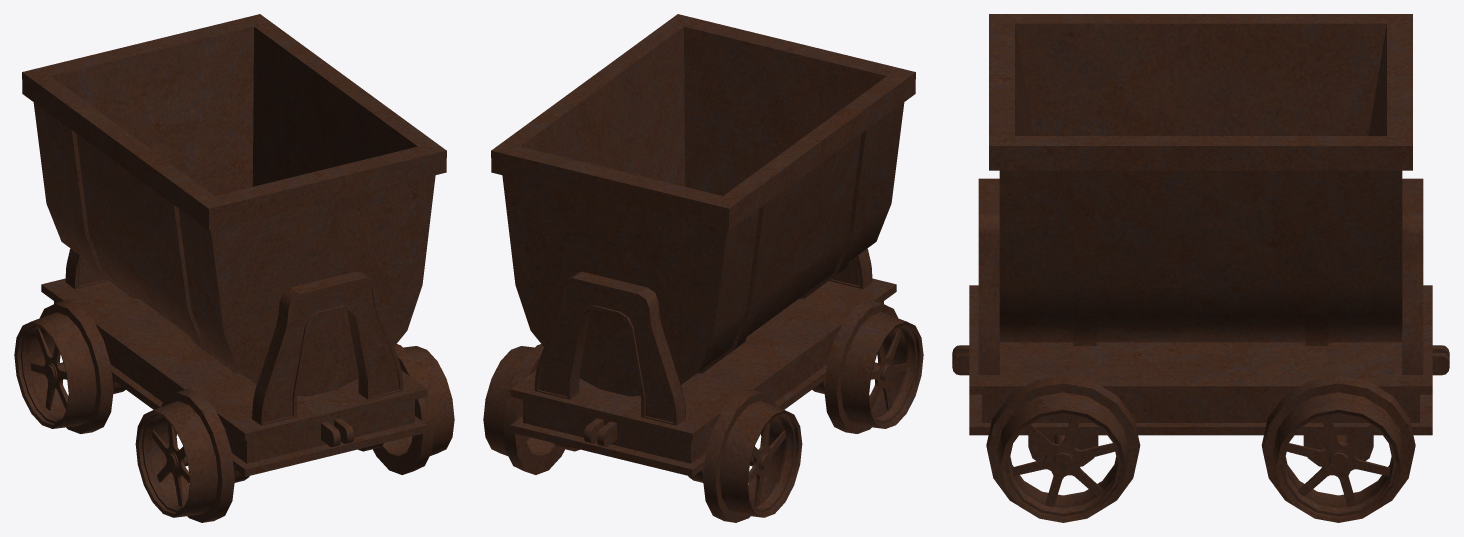
Rendered from mine_cart.glb.
The picture shows the model from 3 angles, left to right: view 1: azimuth 30°, elevation 25°; view 2: azimuth 150°, elevation 25°; view 3: azimuth 270°, elevation 25°; orthographic projection. The views are drawn at different scales.
Parts seen in each view (by area): view 1: Object_21; view 2: Object_21; view 3: Object_21.
Boxes of the visible parts, box(x1,y1,x2,y2) form: Object_21: box(14, 14, 454, 522); Object_21: box(483, 14, 923, 522); Object_21: box(952, 14, 1449, 522).
Bounding box in the file's own units: 455 × 556 × 655.
Materials: 1 (1 with a texture image).
